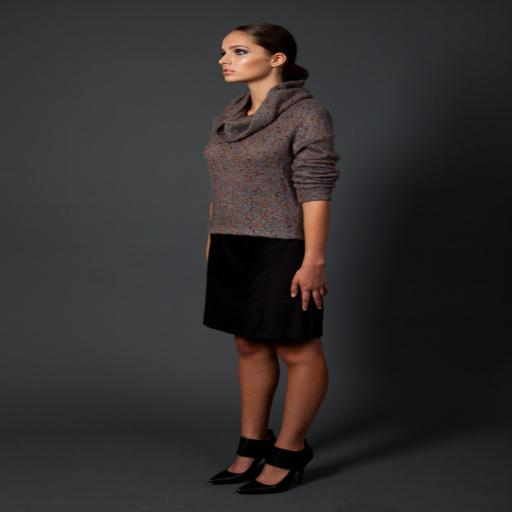no_boots: (246, 427, 296, 500), (224, 415, 269, 485)
no_gloves: (268, 252, 318, 316)
no_goggle: (228, 43, 264, 60)
no_helmet: (219, 11, 283, 71)
none: (213, 71, 319, 348)
